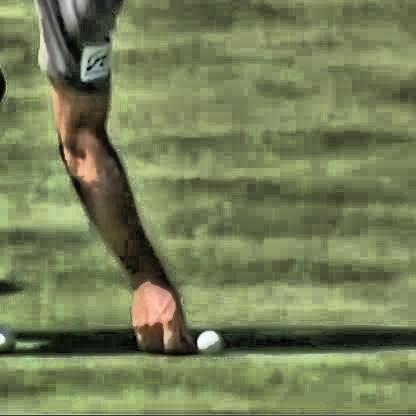golfball: (193, 326, 221, 354)
